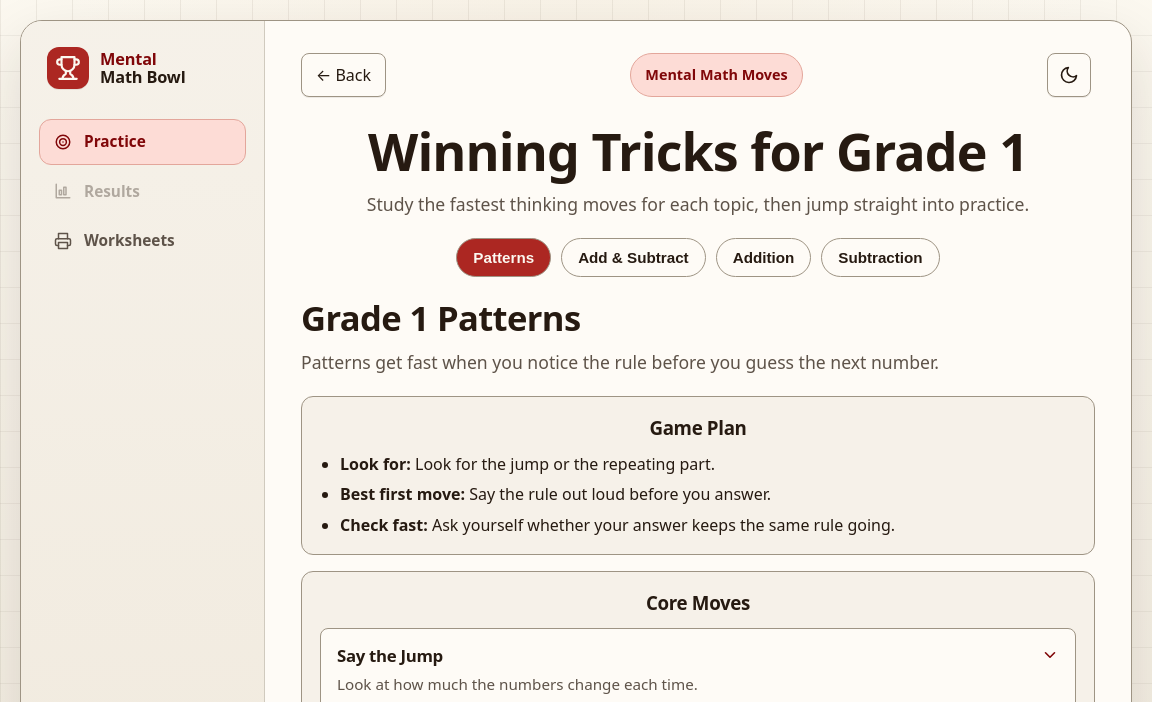
App mental math routes › updates the url when switching between tricks topics
Click the button "Subtraction" at {"x": 880, "y": 258}, box [821, 238, 940, 277]
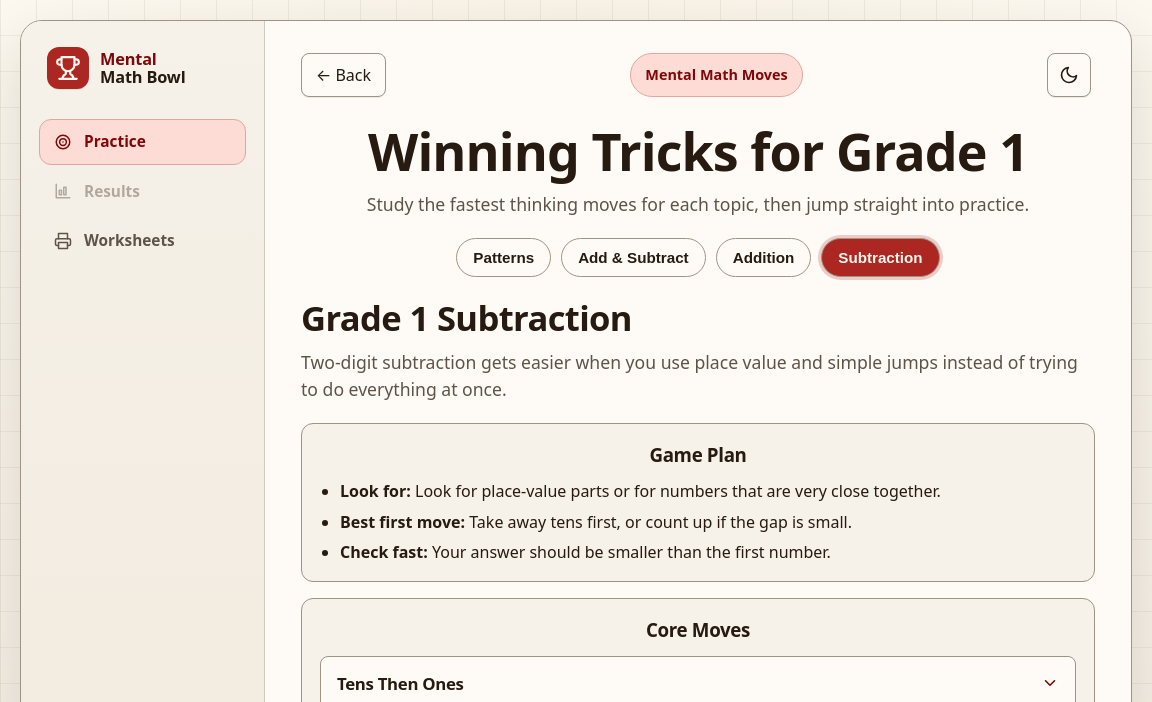
Check: the heading "Grade 1 Subtraction" is shown, box [301, 294, 632, 341]
